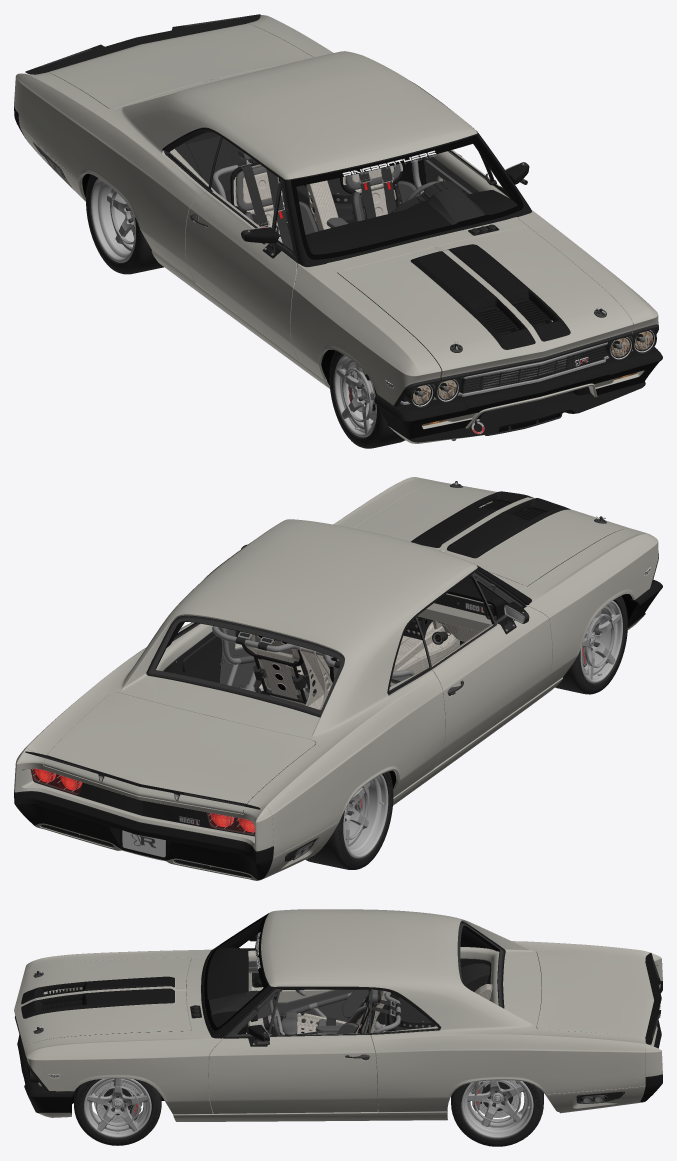
File: ringbrothers_1966_chevrolet_chevelle_recoil.glb
3 views of the same model, one above another, from view 1: azimuth 30°, elevation 25°; view 2: azimuth 150°, elevation 25°; view 3: azimuth 270°, elevation 25° (orthographic). The views are drawn at different scales.
Parts seen in each view (by area): view 1: chevelle:Paint_Geo_lodA_Paint_Geo_lodA_Chevrolet_Ringbrother (×2), chevelle:Carbon1_Geo_lodA_Carbon1_Geo_lodA_Chevrolet_Ringbro, chevelle:Interior_Geo_lodA_Interior_Geo_lodA_Chevrolet_Ringb, chevelle:Coloured_Geo_lodA_Coloured_Geo_lodA_Chevrolet_Ringb, chevelle:Carbon1M_Geo_lodA_Carbon1M_Geo_lodA_Chevrolet_Ringb, chevelle:Window_Geo_lodA_Window_Geo_lodA_Chevrolet_Ringbroth (×2), chevelle:chevelle:polySurface570_chevelle:Chevrolet_Ringbrot, chevelle:chevelle:polySurface192_chevelle:Chevrolet_Ringbrot, chevelle:InteriorTilling_Geo_lodA_InteriorTilling_Geo_lodA_C, chevelle:Light_Geo_lodA_Light_Geo_lodA_Chevrolet_Ringbrother, chevelle:Engine_Geo_lodA_Engine_Geo_lodA_Chevrolet_Ringbroth, chevelle:Base_Geo_lodA_Base_Geo_lodA_Chevrolet_RingbrothersC (+2 smaller); view 2: chevelle:Paint_Geo_lodA_Paint_Geo_lodA_Chevrolet_Ringbrother (×2), chevelle:Carbon1_Geo_lodA_Carbon1_Geo_lodA_Chevrolet_Ringbro, chevelle:Interior_Geo_lodA_Interior_Geo_lodA_Chevrolet_Ringb, chevelle:Coloured_Geo_lodA_Coloured_Geo_lodA_Chevrolet_Ringb, chevelle:InteriorTilling_Geo_lodA_InteriorTilling_Geo_lodA_C, chevelle:chevelle:polySurface570_chevelle:Chevrolet_Ringbrot, chevelle:chevelle:polySurface192_chevelle:Chevrolet_Ringbrot, chevelle:Light_Geo_lodA_Light_Geo_lodA_Chevrolet_Ringbrother, chevelle:Window_Geo_lodA_Window_Geo_lodA_Chevrolet_Ringbroth, chevelle:Carbon1M_Geo_lodA_Carbon1M_Geo_lodA_Chevrolet_Ringb, chevelle:Base_Geo_lodA_Base_Geo_lodA_Chevrolet_RingbrothersC, chevelle:ManufacturerPlate_Geo_lodA_ManufacturerPlate_Geo_lo; view 3: chevelle:Paint_Geo_lodA_Paint_Geo_lodA_Chevrolet_Ringbrother (×2), chevelle:Interior_Geo_lodA_Interior_Geo_lodA_Chevrolet_Ringb, chevelle:Carbon1_Geo_lodA_Carbon1_Geo_lodA_Chevrolet_Ringbro, chevelle:chevelle:polySurface383_chevelle:Chevrolet_Ringbrot, chevelle:chevelle:polySurface1_chevelle:Chevrolet_Ringbrothe, chevelle:Coloured_Geo_lodA_Coloured_Geo_lodA_Chevrolet_Ringb, chevelle:Carbon1M_Geo_lodA_Carbon1M_Geo_lodA_Chevrolet_Ringb, chevelle:InteriorTilling_Geo_lodA_InteriorTilling_Geo_lodA_C, chevelle:Window_Geo_lodA_Window_Geo_lodA_Chevrolet_Ringbroth, chevelle:Engine_Geo_lodA_Engine_Geo_lodA_Chevrolet_Ringbroth, chevelle:Base_Geo_lodA_Base_Geo_lodA_Chevrolet_RingbrothersC.
Boxes of the visible parts, x1=… form: chevelle:Paint_Geo_lodA_Paint_Geo_lodA_Chevrolet_Ringbrother (×2): x1=14, y1=15, x2=658, y2=443; chevelle:Carbon1_Geo_lodA_Carbon1_Geo_lodA_Chevrolet_Ringbro: x1=14, y1=14, x2=662, y2=438; chevelle:Interior_Geo_lodA_Interior_Geo_lodA_Chevrolet_Ringb: x1=175, y1=132, x2=496, y2=267; chevelle:Coloured_Geo_lodA_Coloured_Geo_lodA_Chevrolet_Ringb: x1=33, y1=16, x2=658, y2=435; chevelle:Carbon1M_Geo_lodA_Carbon1M_Geo_lodA_Chevrolet_Ringb: x1=210, y1=137, x2=518, y2=254; chevelle:Window_Geo_lodA_Window_Geo_lodA_Chevrolet_Ringbroth (×2): x1=291, y1=136, x2=653, y2=405; chevelle:chevelle:polySurface570_chevelle:Chevrolet_Ringbrot: x1=86, y1=174, x2=163, y2=274; chevelle:chevelle:polySurface192_chevelle:Chevrolet_Ringbrot: x1=329, y1=350, x2=405, y2=448; chevelle:InteriorTilling_Geo_lodA_InteriorTilling_Geo_lodA_C: x1=233, y1=160, x2=402, y2=243; chevelle:Light_Geo_lodA_Light_Geo_lodA_Chevrolet_Ringbrother: x1=412, y1=330, x2=653, y2=425; chevelle:Engine_Geo_lodA_Engine_Geo_lodA_Chevrolet_Ringbroth: x1=455, y1=298, x2=602, y2=347; chevelle:Base_Geo_lodA_Base_Geo_lodA_Chevrolet_RingbrothersC: x1=82, y1=142, x2=654, y2=432; chevelle:Paint_Geo_lodA_Paint_Geo_lodA_Chevrolet_Ringbrother (×2): x1=14, y1=477, x2=658, y2=880; chevelle:Carbon1_Geo_lodA_Carbon1_Geo_lodA_Chevrolet_Ringbro: x1=14, y1=491, x2=662, y2=879; chevelle:Interior_Geo_lodA_Interior_Geo_lodA_Chevrolet_Ringb: x1=163, y1=594, x2=494, y2=704; chevelle:Coloured_Geo_lodA_Coloured_Geo_lodA_Chevrolet_Ringb: x1=31, y1=482, x2=658, y2=878; chevelle:InteriorTilling_Geo_lodA_InteriorTilling_Geo_lodA_C: x1=242, y1=620, x2=479, y2=709; chevelle:chevelle:polySurface570_chevelle:Chevrolet_Ringbrot: x1=305, y1=771, x2=393, y2=869; chevelle:chevelle:polySurface192_chevelle:Chevrolet_Ringbrot: x1=555, y1=596, x2=627, y2=694; chevelle:Light_Geo_lodA_Light_Geo_lodA_Chevrolet_Ringbrother: x1=31, y1=768, x2=254, y2=835; chevelle:Window_Geo_lodA_Window_Geo_lodA_Chevrolet_Ringbroth: x1=31, y1=769, x2=254, y2=834; chevelle:Carbon1M_Geo_lodA_Carbon1M_Geo_lodA_Chevrolet_Ringb: x1=156, y1=576, x2=508, y2=668; chevelle:Base_Geo_lodA_Base_Geo_lodA_Chevrolet_RingbrothersC: x1=155, y1=578, x2=636, y2=788; chevelle:ManufacturerPlate_Geo_lodA_ManufacturerPlate_Geo_lo: x1=122, y1=830, x2=165, y2=857; chevelle:Paint_Geo_lodA_Paint_Geo_lodA_Chevrolet_Ringbrother (×2): x1=14, y1=909, x2=662, y2=1121; chevelle:Interior_Geo_lodA_Interior_Geo_lodA_Chevrolet_Ringb: x1=209, y1=958, x2=491, y2=1035; chevelle:Carbon1_Geo_lodA_Carbon1_Geo_lodA_Chevrolet_Ringbro: x1=17, y1=934, x2=662, y2=1112; chevelle:chevelle:polySurface383_chevelle:Chevrolet_Ringbrot: x1=451, y1=1080, x2=543, y2=1146; chevelle:chevelle:polySurface1_chevelle:Chevrolet_Ringbrothe: x1=74, y1=1078, x2=161, y2=1145; chevelle:Coloured_Geo_lodA_Coloured_Geo_lodA_Chevrolet_Ringb: x1=14, y1=922, x2=660, y2=1103; chevelle:Carbon1M_Geo_lodA_Carbon1M_Geo_lodA_Chevrolet_Ringb: x1=207, y1=919, x2=499, y2=1033; chevelle:InteriorTilling_Geo_lodA_InteriorTilling_Geo_lodA_C: x1=246, y1=984, x2=492, y2=1035; chevelle:Window_Geo_lodA_Window_Geo_lodA_Chevrolet_Ringbroth: x1=204, y1=914, x2=268, y2=1030; chevelle:Engine_Geo_lodA_Engine_Geo_lodA_Chevrolet_Ringbroth: x1=37, y1=971, x2=82, y2=1029; chevelle:Base_Geo_lodA_Base_Geo_lodA_Chevrolet_RingbrothersC: x1=71, y1=918, x2=606, y2=1114.
Bounding box in the file's own units: 0.0202 × 0.0137 × 0.05.
27 materials, 22 textured.
